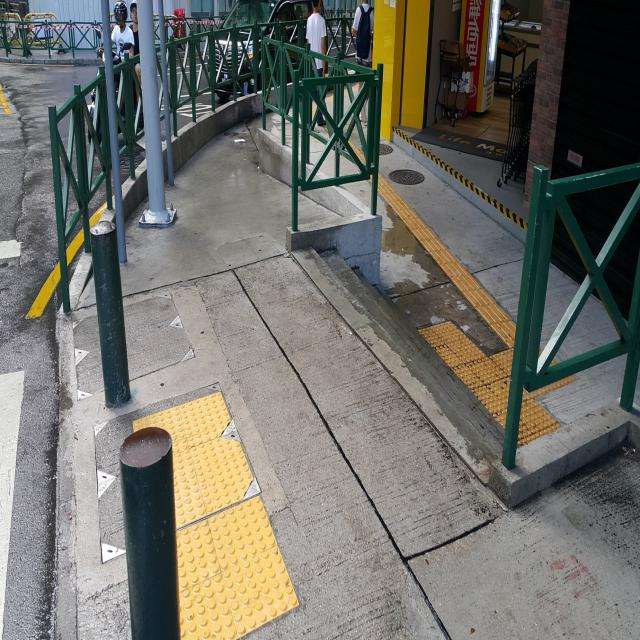tactile-guide-path: (133, 393, 300, 639), (377, 169, 516, 349), (418, 319, 559, 445)
